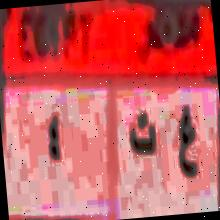4: (42, 102, 66, 184)
ghayn: (171, 94, 202, 192)
taa: (125, 100, 160, 174)
